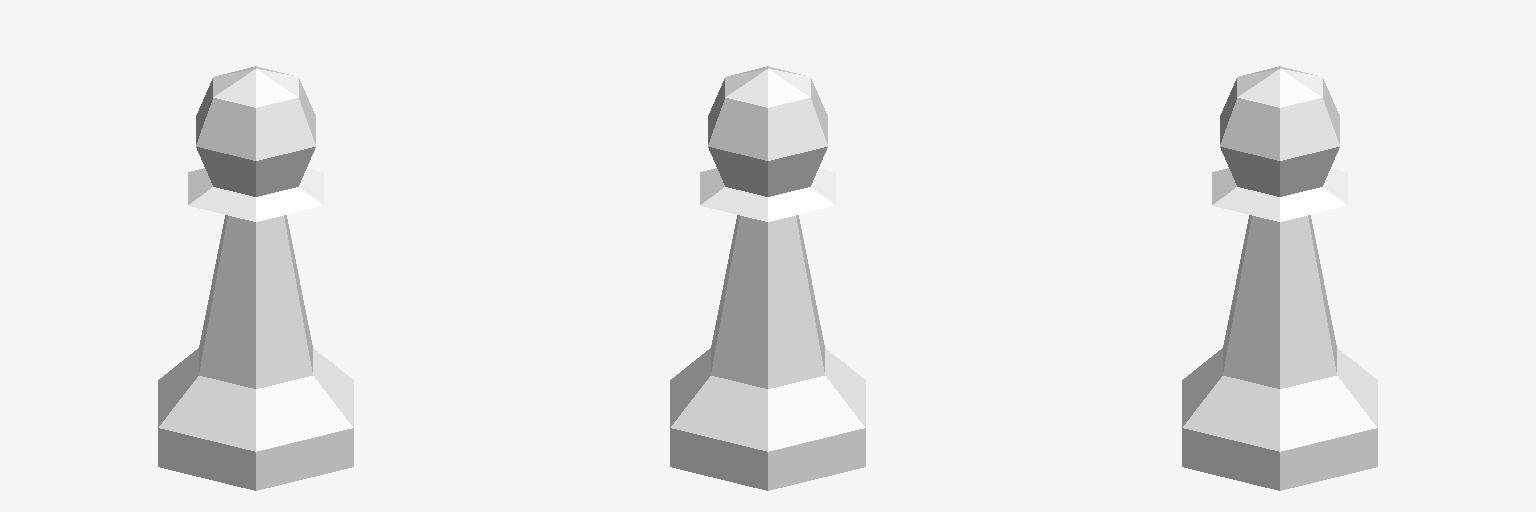
Rendered from pawn_white.obj.
3 views of the same model, side by side, from view 1: azimuth 30°, elevation 25°; view 2: azimuth 150°, elevation 25°; view 3: azimuth 270°, elevation 25° (orthographic).
Parts seen in each view (by area): view 1: Pawn_Sphere.003; view 2: Pawn_Sphere.003; view 3: Pawn_Sphere.003.
Boxes of the visible parts, box(x1,y1,x2,y2) form: Pawn_Sphere.003: box(158, 66, 353, 490); Pawn_Sphere.003: box(670, 66, 865, 490); Pawn_Sphere.003: box(1182, 66, 1377, 490).
Size of the model in its own units: 0.2596 by 0.475 by 0.2249.